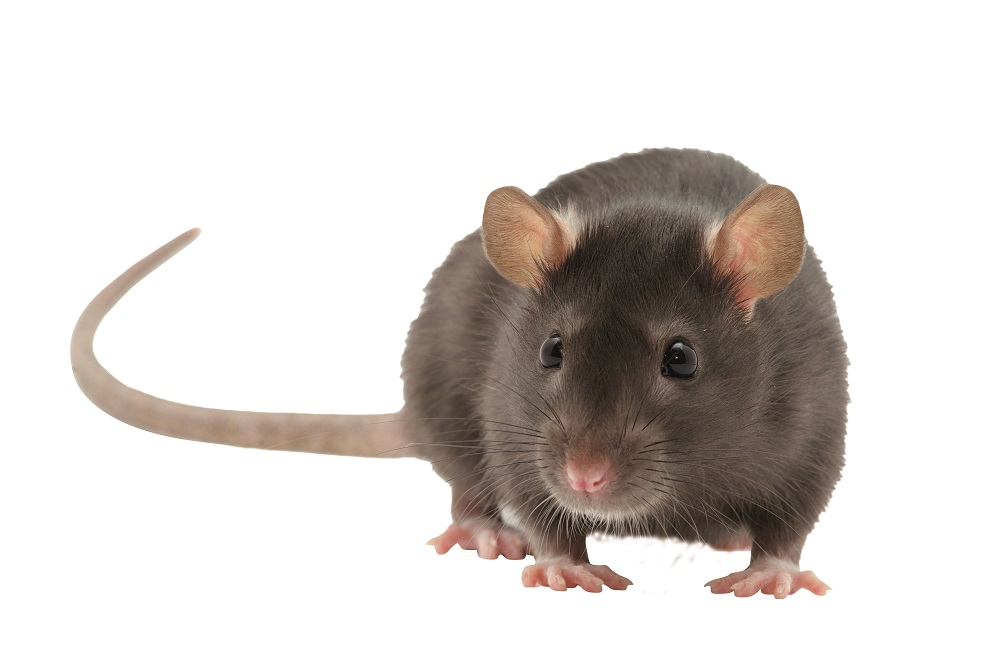rat: (325, 141, 890, 619)
